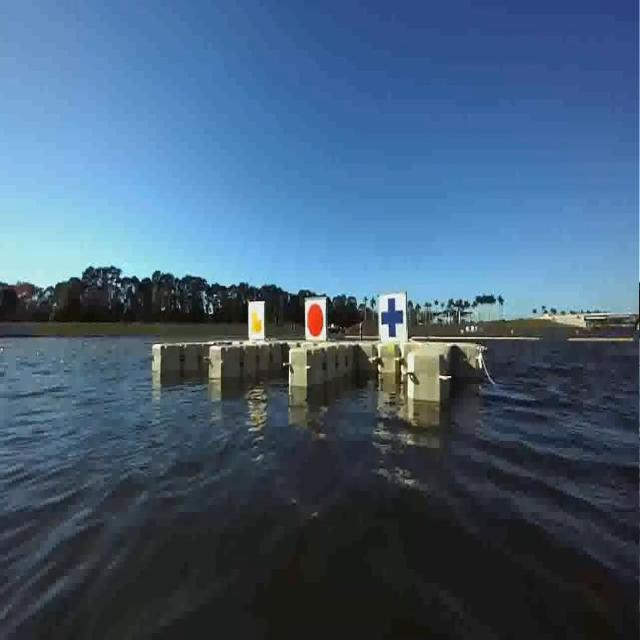blue-cross: (373, 291, 410, 345)
red-dot: (303, 295, 327, 344)
yellow-duck: (251, 309, 262, 329)
